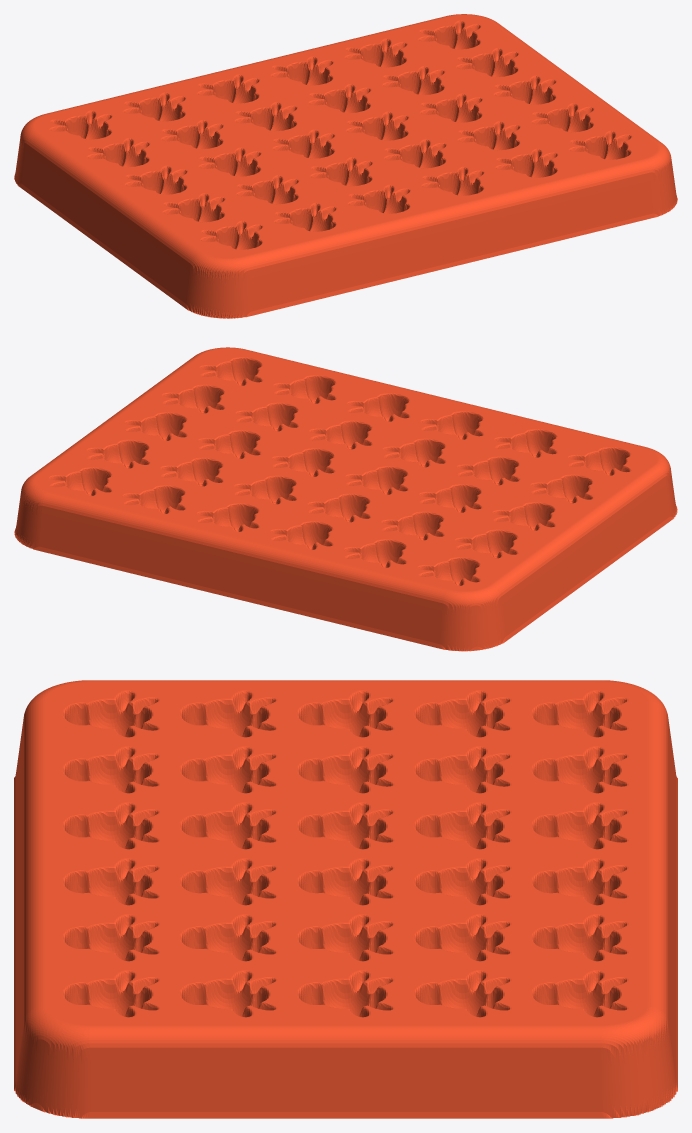
The model's file is mold.glb.
3 views of the same model, one above another, from view 1: azimuth 30°, elevation 25°; view 2: azimuth 150°, elevation 25°; view 3: azimuth 270°, elevation 25° (orthographic). The views are drawn at different scales.
Parts seen in each view (by area): view 1: geometry_0; view 2: geometry_0; view 3: geometry_0.
Part boxes in pixels (box(x1,y1,x2,y2)): geometry_0: box(14, 14, 677, 318); geometry_0: box(14, 347, 677, 651); geometry_0: box(14, 680, 677, 1118).
Bounding box in the file's own units: 0.1028 × 0.0105 × 0.0782.
